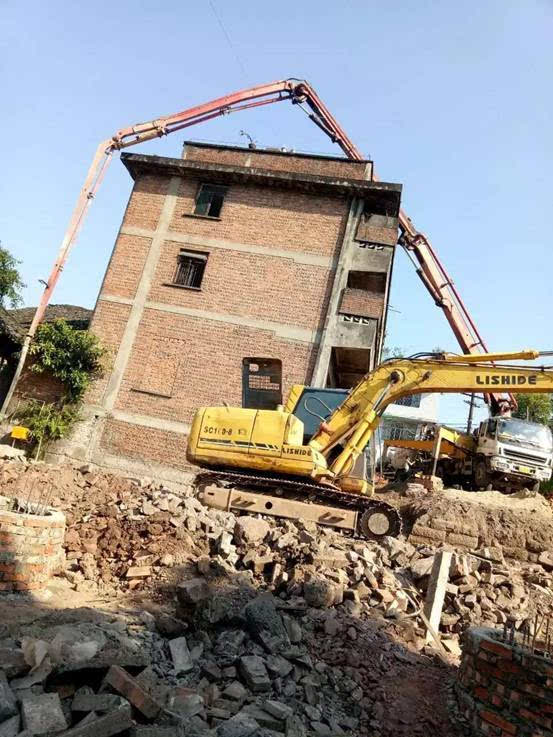excavator: (180, 328, 548, 541)
